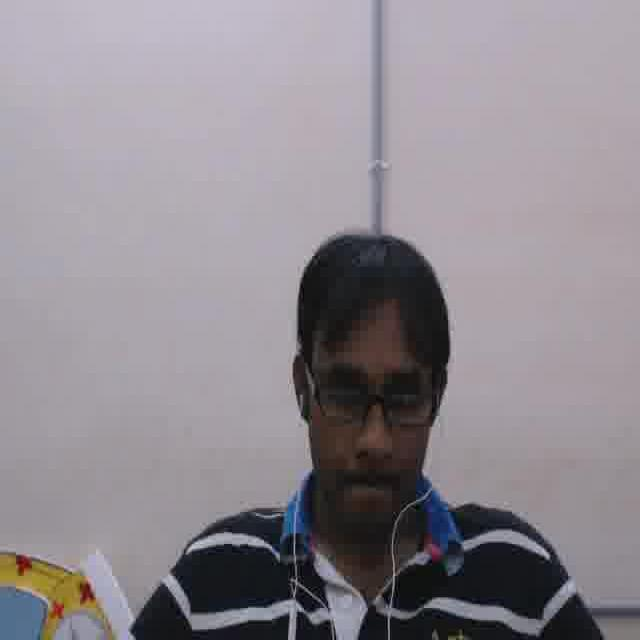Engaged: (311, 319, 433, 528)
